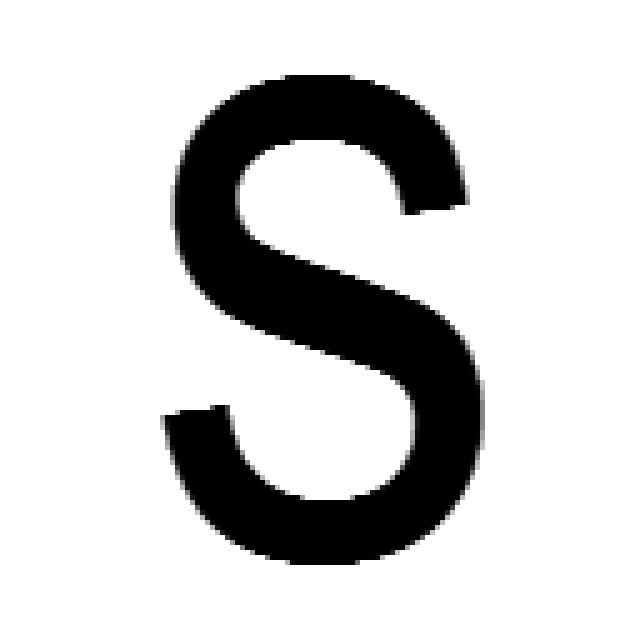S: (150, 60, 490, 570)
